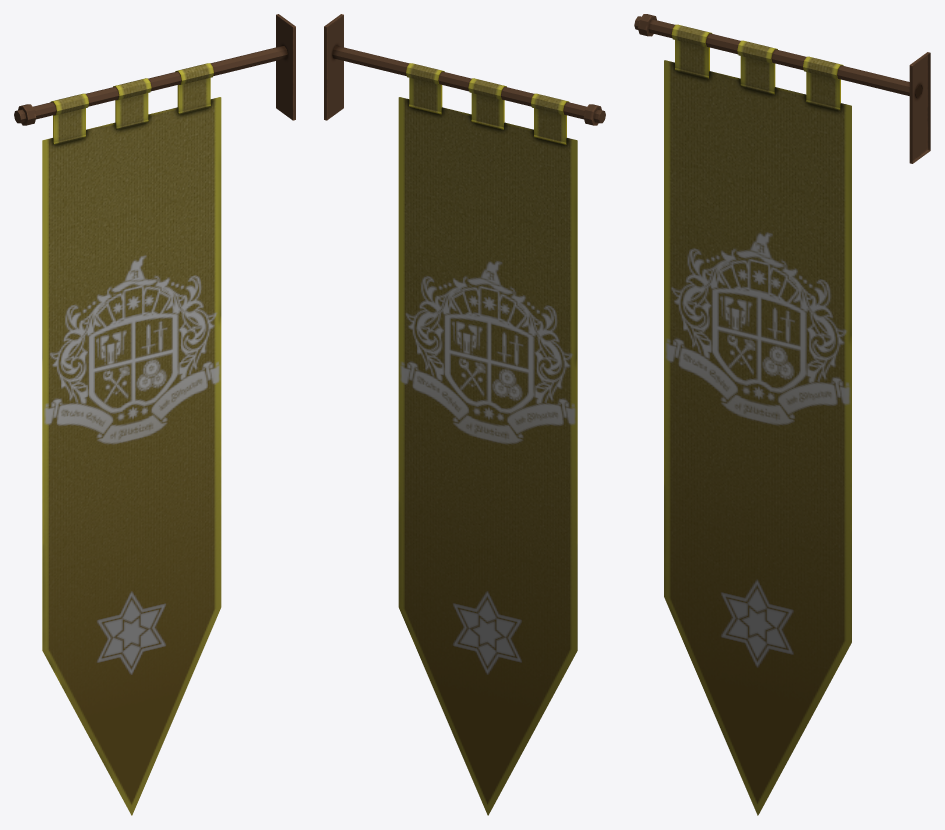
The model's file is BgMD_Flag.fbx.
The picture shows the model from 3 angles, left to right: view 1: azimuth 30°, elevation 25°; view 2: azimuth 150°, elevation 25°; view 3: azimuth 330°, elevation 25°; orthographic projection. The views are drawn at different scales.
Parts seen in each view (by area): view 1: BgMD_flag_parts_01_low; view 2: BgMD_flag_parts_01_low; view 3: BgMD_flag_parts_01_low.
Boxes of the visible parts, x1,y1,x2,y2 form: BgMD_flag_parts_01_low: [14, 14, 295, 815]; BgMD_flag_parts_01_low: [324, 14, 605, 815]; BgMD_flag_parts_01_low: [634, 14, 930, 815].
Bounding box in the file's own units: 454 × 1217 × 50.
